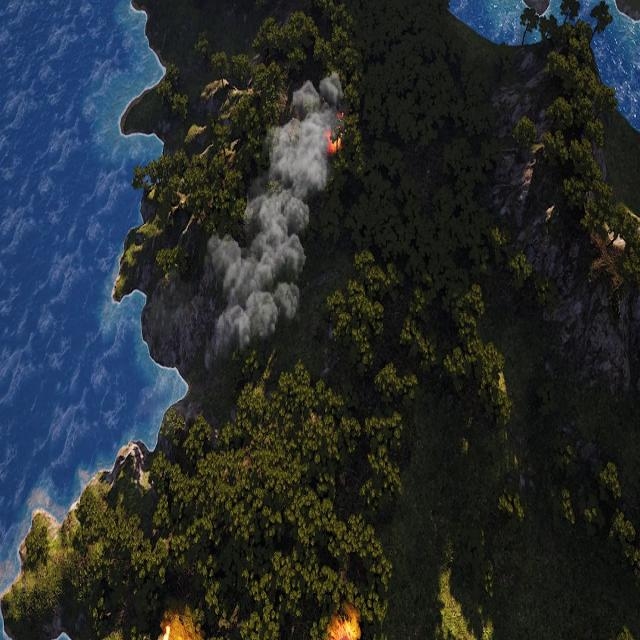fire: (330, 615, 361, 640), (326, 131, 340, 155), (160, 623, 174, 640)
smoke: (202, 78, 348, 370)
